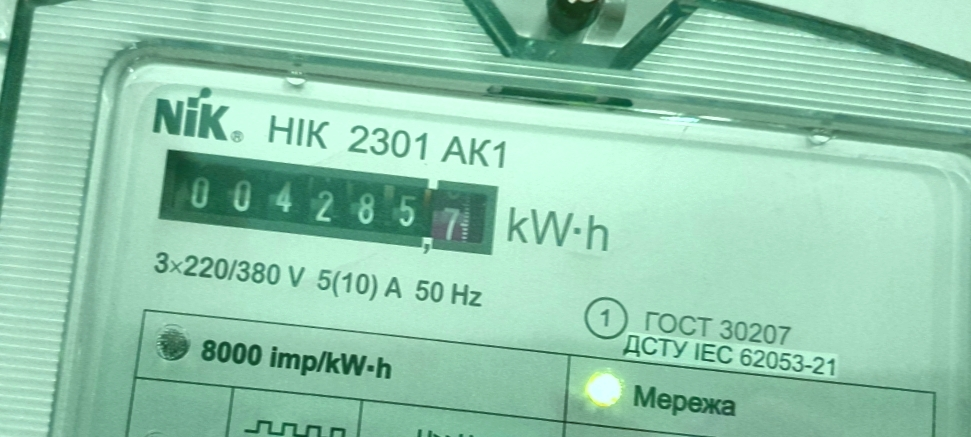0: (230, 177, 256, 216), (187, 174, 213, 212)
2: (313, 188, 337, 226)
4: (274, 179, 295, 216)
5: (394, 192, 420, 231)
7: (438, 206, 462, 244)
8: (353, 190, 379, 229)
screen: (142, 132, 517, 278)
